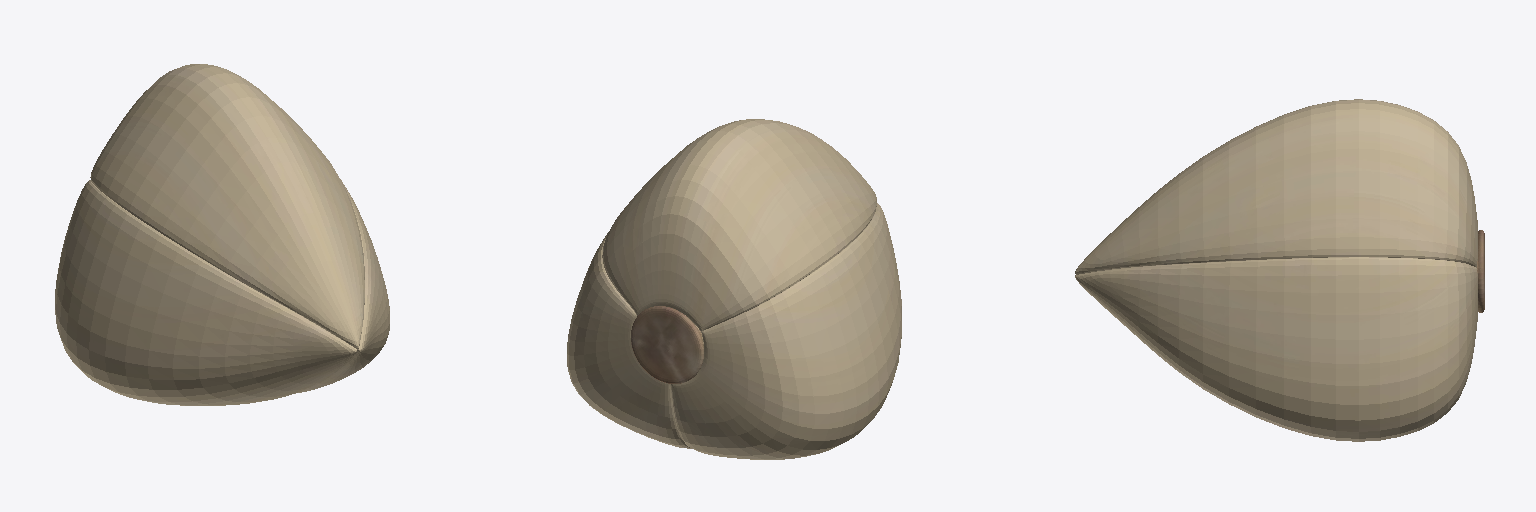
3 renders of one model, left to right at view 1: azimuth 30°, elevation 25°; view 2: azimuth 150°, elevation 25°; view 3: azimuth 270°, elevation 25°, orthographic.
Visible parts, largest first — view 1: GrainBuckwheat016; view 2: GrainBuckwheat016; view 3: GrainBuckwheat016.
Boxes of the visible parts, box(x1,y1,x2,y2) form: GrainBuckwheat016: box(55, 64, 389, 405); GrainBuckwheat016: box(567, 119, 901, 459); GrainBuckwheat016: box(1075, 99, 1484, 441).
Size of the model in its own units: 0.0252 by 0.0262 by 0.0318.
1 materials, 1 textured.